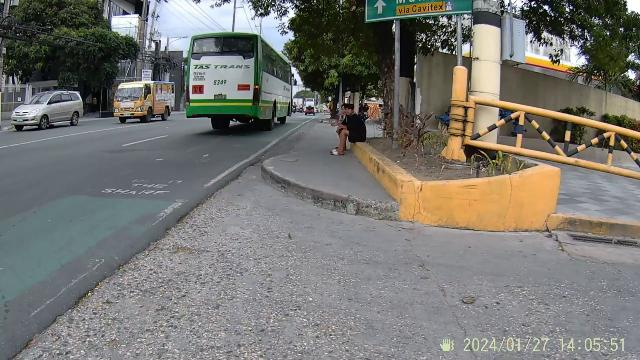car: (12, 90, 86, 128)
